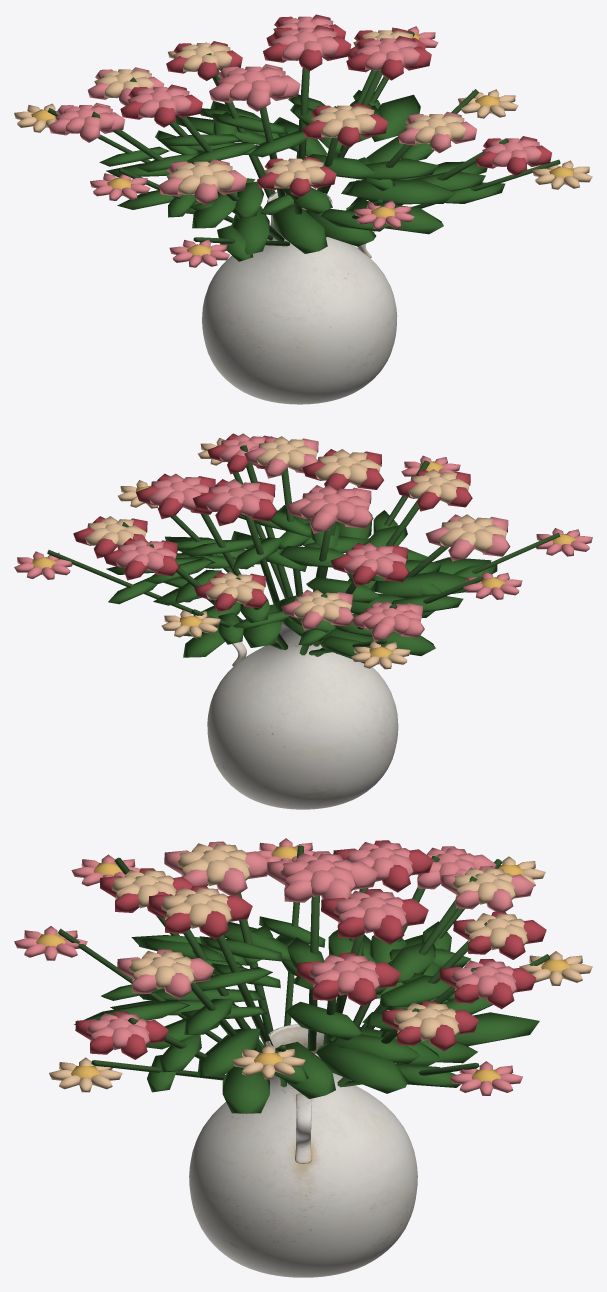
File: table-low-floral.glb
3 views of the same model, one above another, from view 1: azimuth 30°, elevation 25°; view 2: azimuth 150°, elevation 25°; view 3: azimuth 270°, elevation 25° (orthographic). The views are drawn at different scales.
Visible parts, largest first — view 1: CC0_Vase_01, BS_CollarLeaf_15, BS_CollarLeaf_12, BS_CollarLeaf_01, BS_CollarLeaf_11, BS_RoseLeafA_06, BS_CollarLeaf_14, BS_CollarLeaf_10, BS_CollarLeaf_13, BS_RoseLeafA_04, BS_RoseLeafA_00, BS_RoseLeafA_11 (+15 smaller); view 2: CC0_Vase_01, BS_CollarLeaf_10, BS_RoseLeafA_03, BS_RoseLeafA_01, BS_CollarLeaf_05, BS_CollarLeaf_04, BS_RoseLeafA_05, BS_RoseLeafA_07, BS_CollarLeaf_08, BS_FillerLeaf_00, BS_RoseStem_05, BS_FillerStem_04 (+10 smaller); view 3: CC0_Vase_01, BS_CollarLeaf_01, BS_CollarLeaf_17, BS_CollarLeaf_04, BS_CollarLeaf_16, BS_RoseLeafA_07, BS_CollarLeaf_00, BS_RoseLeafA_10, BS_RoseLeafA_08, BS_RoseLeafA_12, BS_RoseLeafA_06, BS_CollarLeaf_14 (+22 smaller).
Part boxes in pixels (x1,y1,x2,y2): CC0_Vase_01: (202, 192, 397, 404); BS_CollarLeaf_15: (344, 179, 455, 204); BS_CollarLeaf_12: (272, 205, 327, 253); BS_CollarLeaf_01: (372, 94, 420, 141); BS_CollarLeaf_11: (231, 206, 269, 254); BS_RoseLeafA_06: (365, 158, 438, 180); BS_CollarLeaf_14: (346, 200, 443, 234); BS_CollarLeaf_10: (192, 191, 237, 228); BS_CollarLeaf_13: (305, 209, 376, 246); BS_RoseLeafA_04: (308, 154, 375, 179); BS_RoseLeafA_00: (234, 181, 263, 218); BS_RoseLeafA_11: (411, 171, 485, 191); CC0_Vase_01: (207, 619, 398, 809); BS_CollarLeaf_10: (370, 571, 466, 598); BS_RoseLeafA_03: (278, 546, 345, 567); BS_RoseLeafA_01: (306, 577, 379, 603); BS_CollarLeaf_05: (243, 604, 282, 647); BS_CollarLeaf_04: (183, 625, 224, 657); BS_RoseLeafA_05: (232, 537, 282, 569); BS_RoseLeafA_07: (181, 538, 253, 556); BS_CollarLeaf_08: (368, 631, 435, 655); BS_FillerLeaf_00: (391, 594, 463, 612); BS_RoseStem_05: (244, 515, 279, 607); BS_FillerStem_04: (47, 550, 194, 614); CC0_Vase_01: (189, 1024, 417, 1277); BS_CollarLeaf_01: (316, 1042, 408, 1093); BS_CollarLeaf_17: (222, 1066, 269, 1113); BS_CollarLeaf_04: (455, 1012, 539, 1046); BS_CollarLeaf_16: (197, 1028, 260, 1076); BS_RoseLeafA_07: (286, 1001, 361, 1040); BS_CollarLeaf_00: (275, 1041, 335, 1098); BS_RoseLeafA_10: (379, 976, 450, 1006); BS_RoseLeafA_08: (331, 1034, 420, 1064); BS_RoseLeafA_12: (390, 942, 435, 982); BS_RoseLeafA_06: (184, 998, 232, 1034); BS_CollarLeaf_14: (74, 999, 189, 1024).
Bounding box in the file's own units: 0.3923 × 0.277 × 0.3923.
7 materials, 1 textured.
